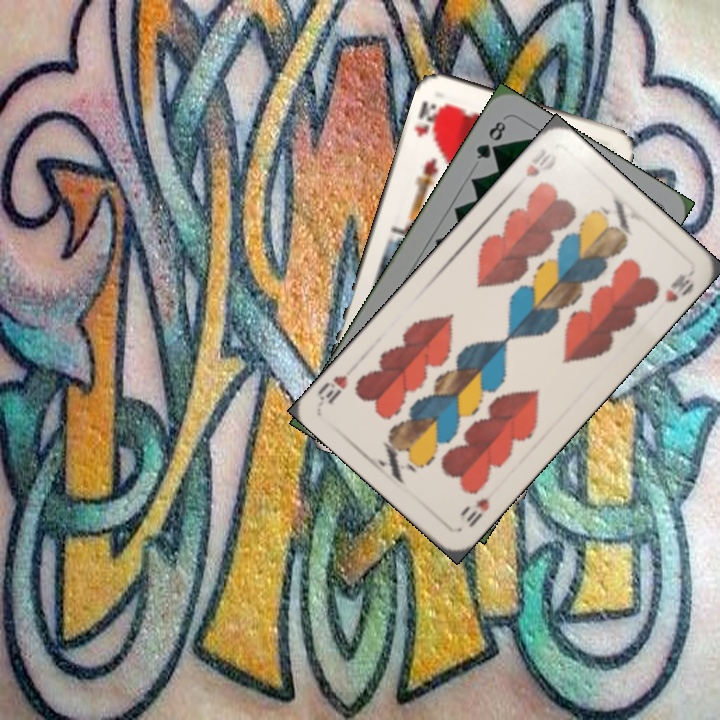G8: (472, 117, 509, 162)
H10: (521, 144, 554, 180), (462, 494, 493, 531)
HK: (411, 96, 447, 145)
